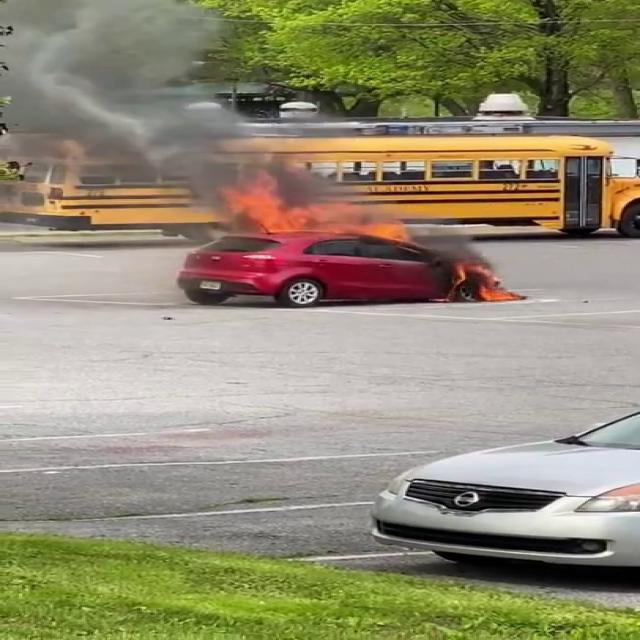Fire: (219, 188, 404, 238), (446, 258, 523, 300)
Smoke: (0, 0, 348, 211)
